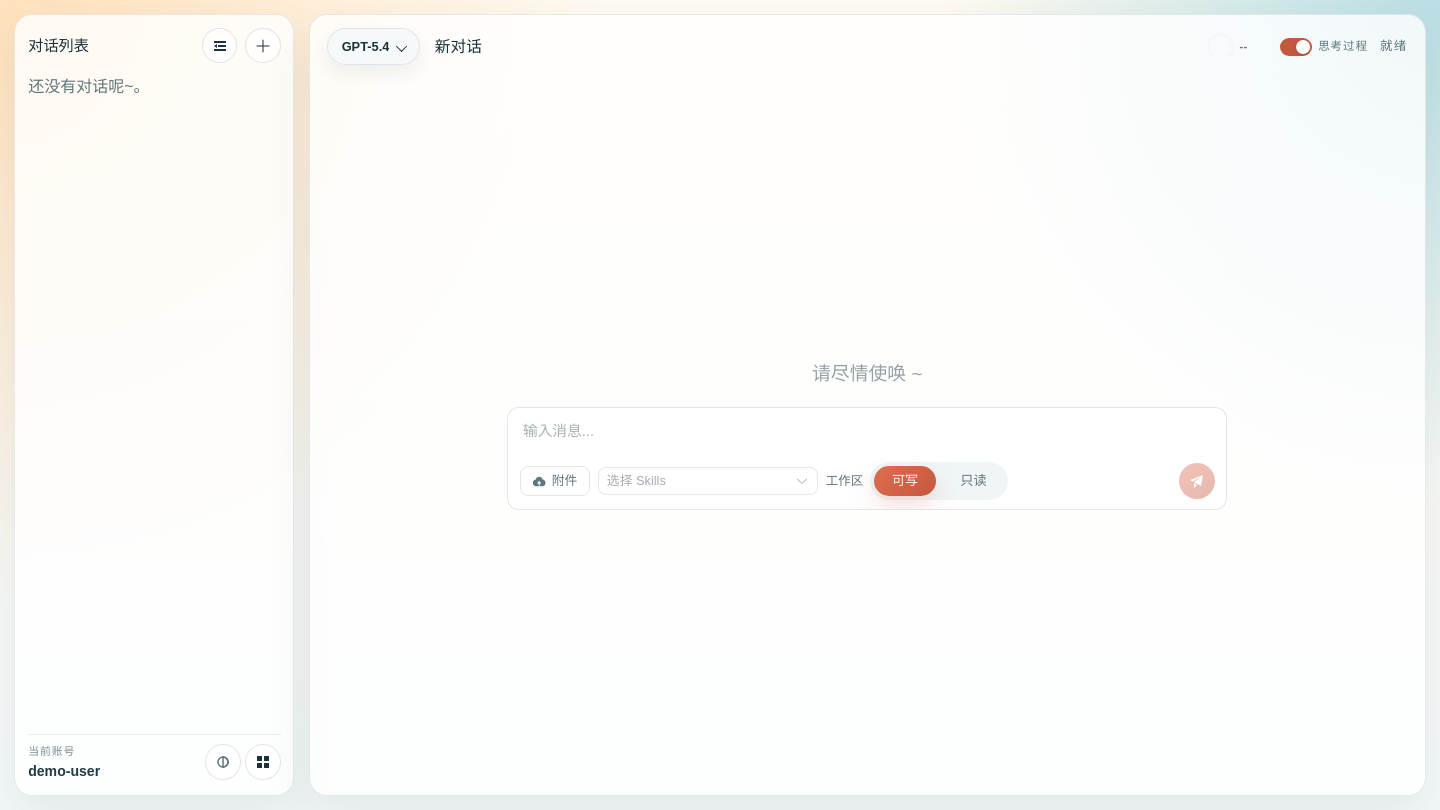
Scenario: ChatView › shows admin links only inside the user menu
What coordinates should you click on to do the following:
click the button with class "sidebar-user-menu-trigger"
I would click on:
 (263, 762)
Its box is [245,744,281,780].
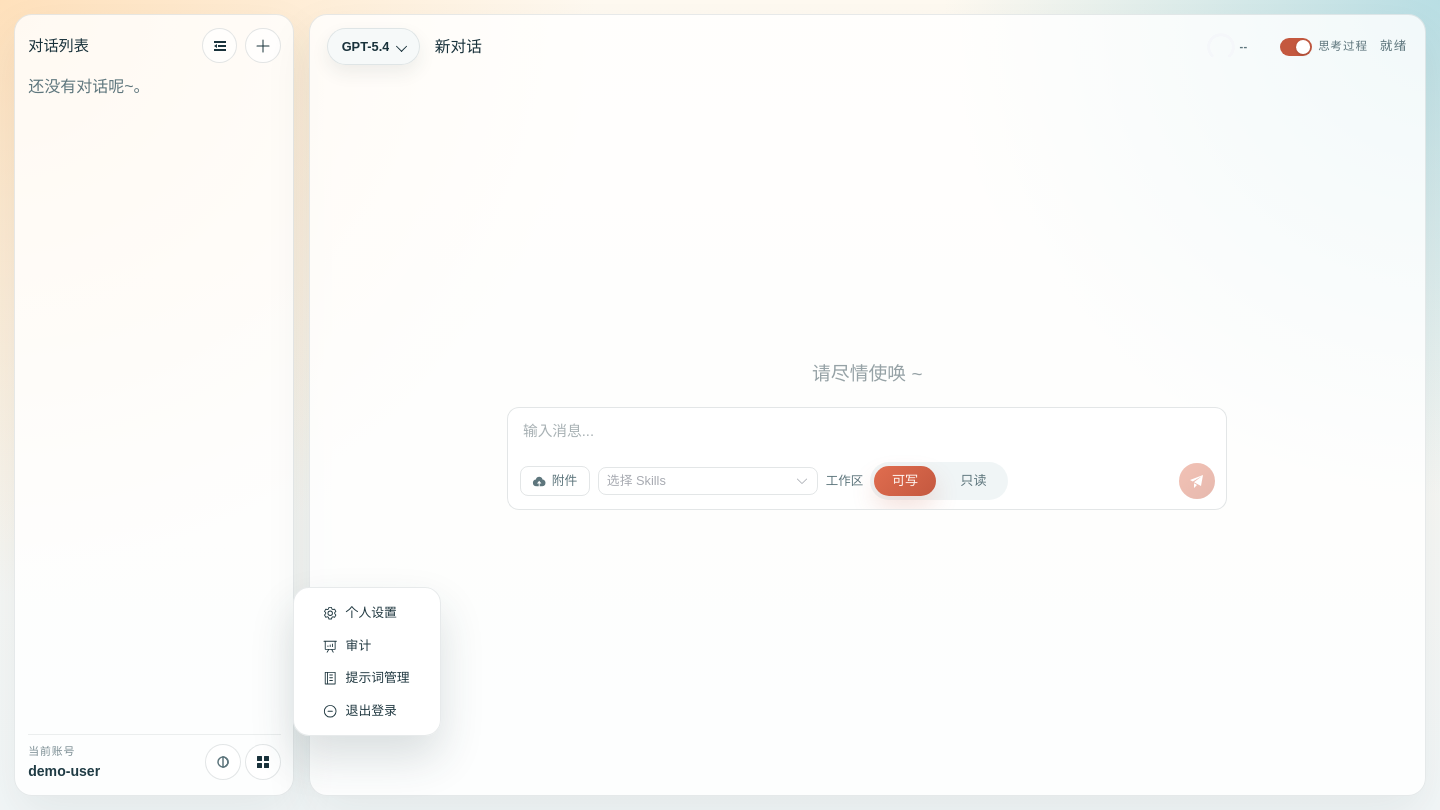
Expected: the link with class "sidebar-admin-link" showing "审计" is shown, [323,638,371,653]
